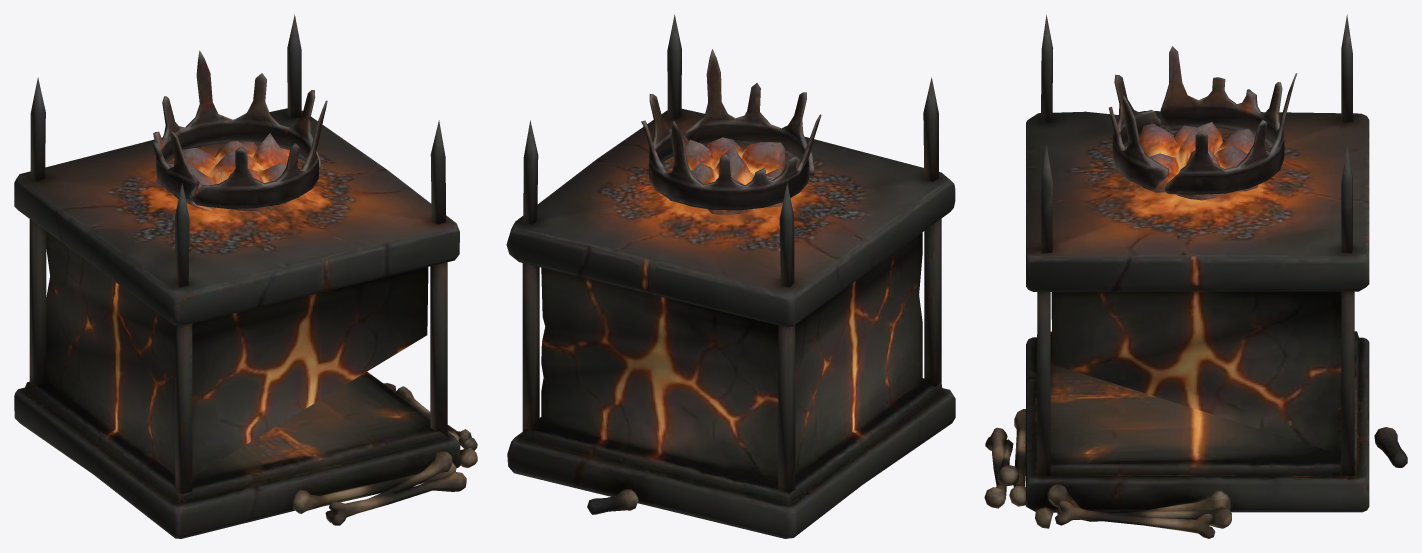
The model's file is ember_altar.glb.
3 views of the same model, side by side, from view 1: azimuth 30°, elevation 25°; view 2: azimuth 150°, elevation 25°; view 3: azimuth 270°, elevation 25° (orthographic). The views are drawn at different scales.
Parts seen in each view (by area): view 1: tripo_node_918f5b2a-3fa2-4441-a0f7-1d2919485bd4; view 2: tripo_node_918f5b2a-3fa2-4441-a0f7-1d2919485bd4; view 3: tripo_node_918f5b2a-3fa2-4441-a0f7-1d2919485bd4.
Boxes of the visible parts, bbox=[...] form: tripo_node_918f5b2a-3fa2-4441-a0f7-1d2919485bd4: bbox=[14, 14, 477, 538]; tripo_node_918f5b2a-3fa2-4441-a0f7-1d2919485bd4: bbox=[506, 14, 955, 538]; tripo_node_918f5b2a-3fa2-4441-a0f7-1d2919485bd4: bbox=[984, 14, 1407, 538].
Size of the model in its own units: 0.92 by 0.998 by 0.998.
Materials: 1 (1 with a texture image).
